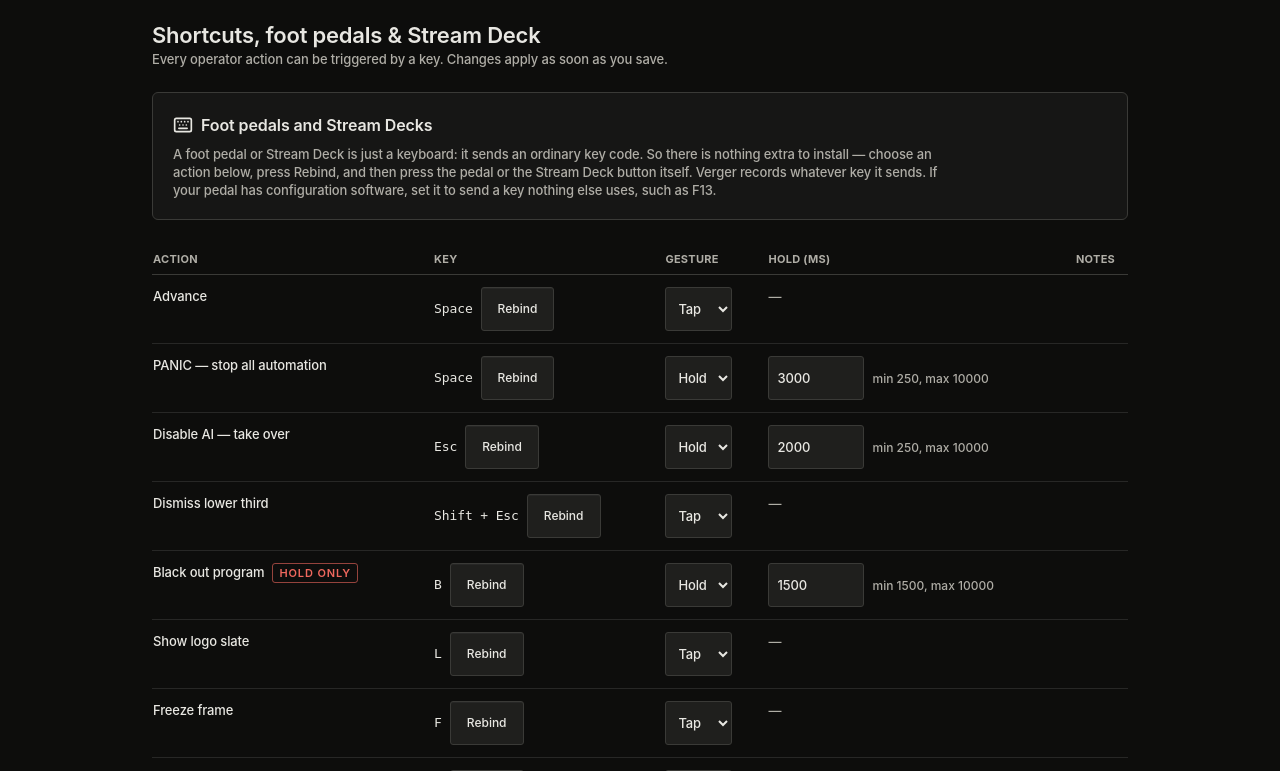
Test case: ShortcutSettings › cancels capture on Tab without binding it
The image size is (1280, 771).
Click the button with aria-label "rebind show logo slate": [487, 654] box [450,632,524,676]
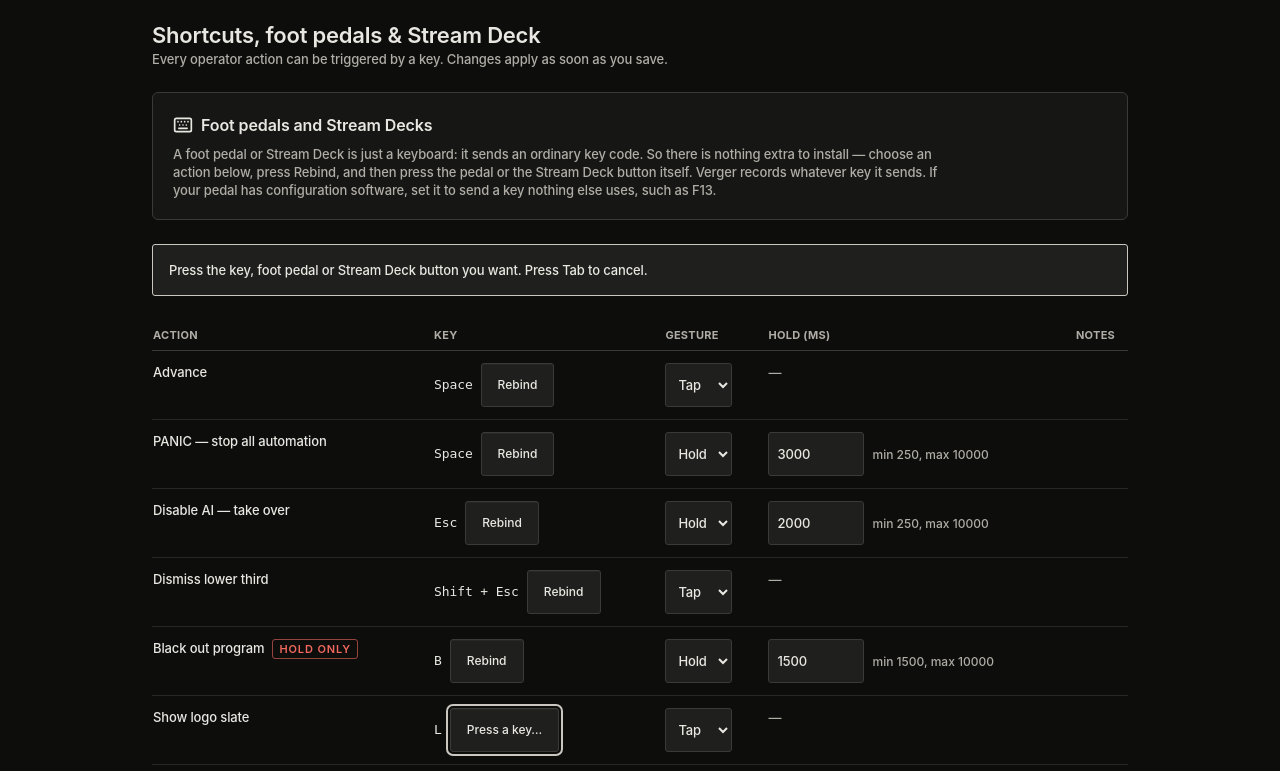
Press Tab
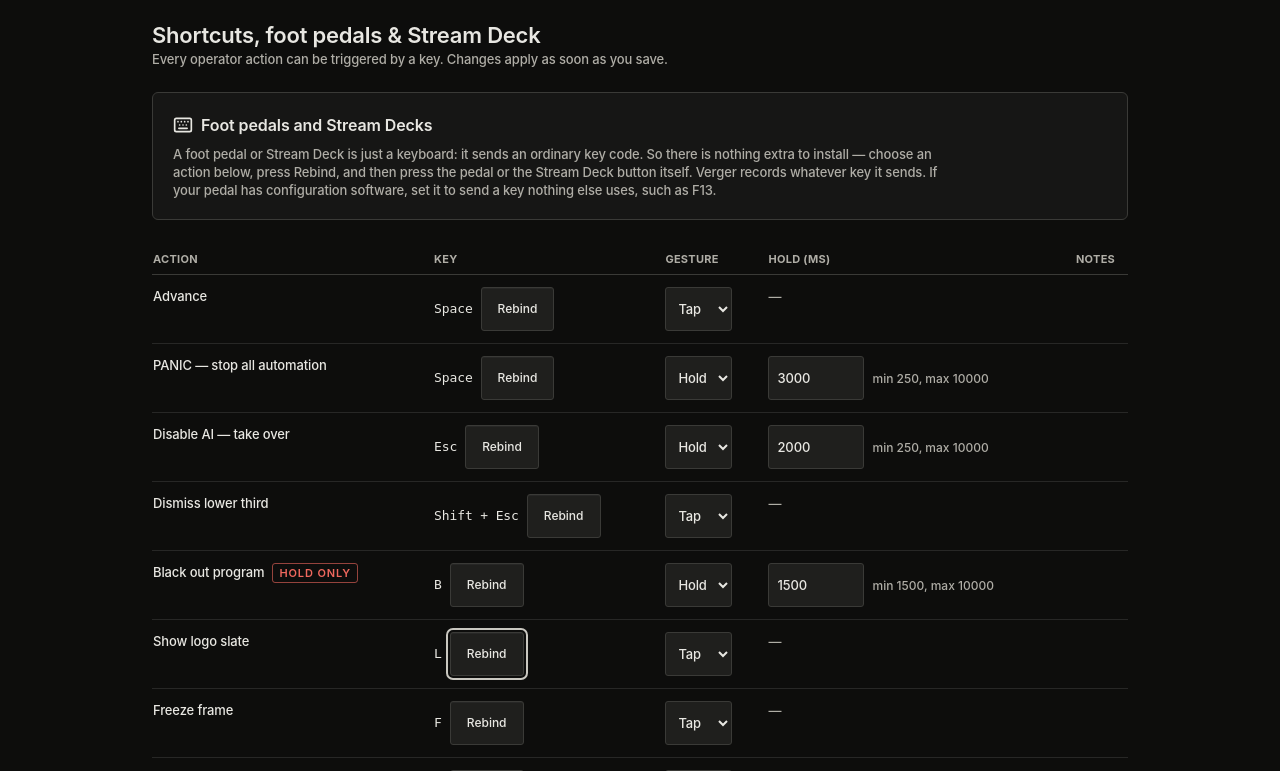
Check: the text "L" is shown, box [434,646,442,661]
Check: the text "Press the key, foot pedal" is gone
